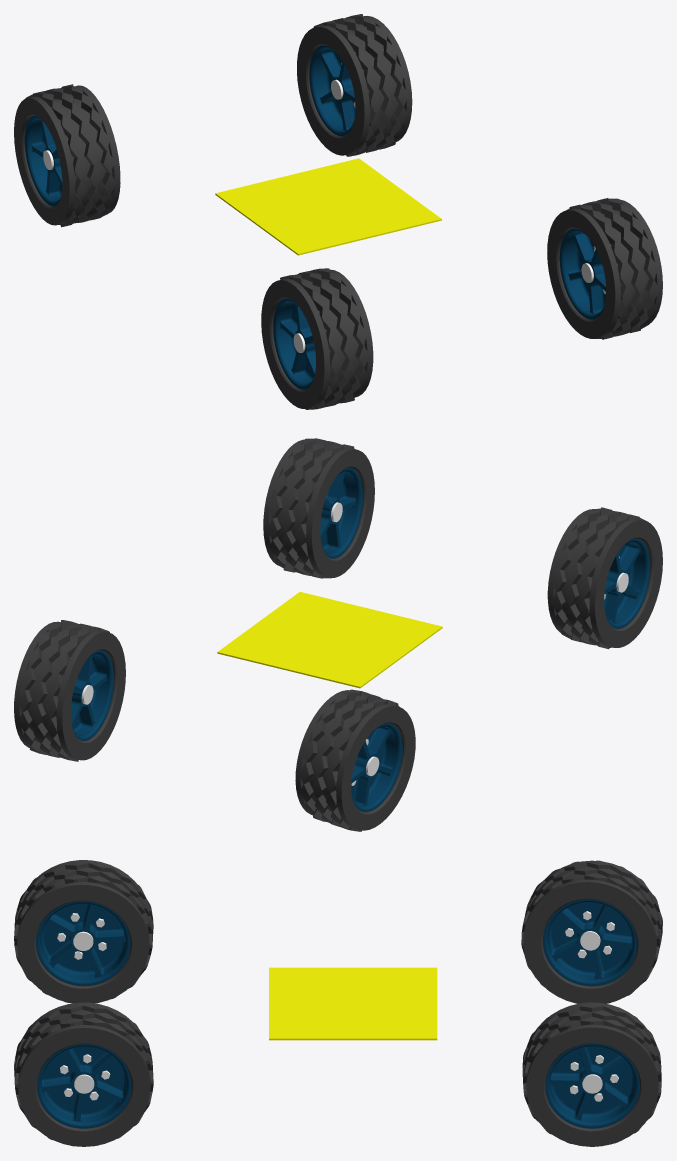
File: chassis.glb
3 views of the same model, one above another, from view 1: azimuth 30°, elevation 25°; view 2: azimuth 150°, elevation 25°; view 3: azimuth 270°, elevation 25° (orthographic). The views are drawn at different scales.
Visible parts, largest first — view 1: Body164 (×4), object 61, Body2 (×4); view 2: Body164 (×4), object 61, Body2 (×4); view 3: Body164 (×4), Body2 (×4), object 61.
Boxes of the visible parts, x1,y1,x2,y2 form: Body164 (×4): (14,14,662,409); object 61: (215,158,441,255); Body2 (×4): (24,45,606,389); Body164 (×4): (14,438,662,831); object 61: (217,592,442,688); Body2 (×4): (71,467,650,812); Body164 (×4): (14,860,662,1146); Body2 (×4): (36,899,639,1128); object 61: (269,967,437,1040).
Size of the model in its own units: 2.38 by 0.8326 by 3.86.
